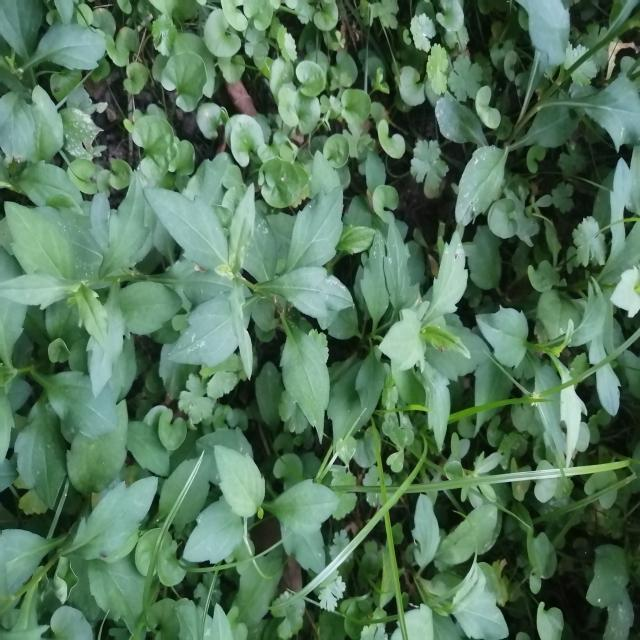Indian aster: (193, 184, 361, 419), (8, 178, 172, 371), (383, 241, 497, 424), (194, 449, 339, 568)
